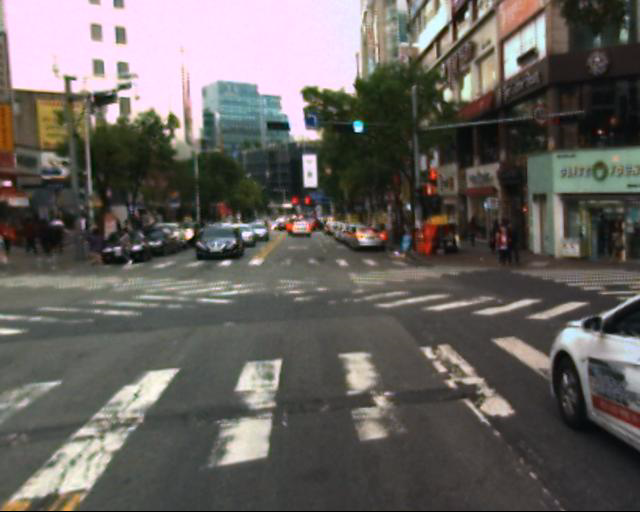person: (0, 210, 71, 268), (463, 208, 524, 273), (83, 222, 120, 271), (114, 217, 145, 271)
